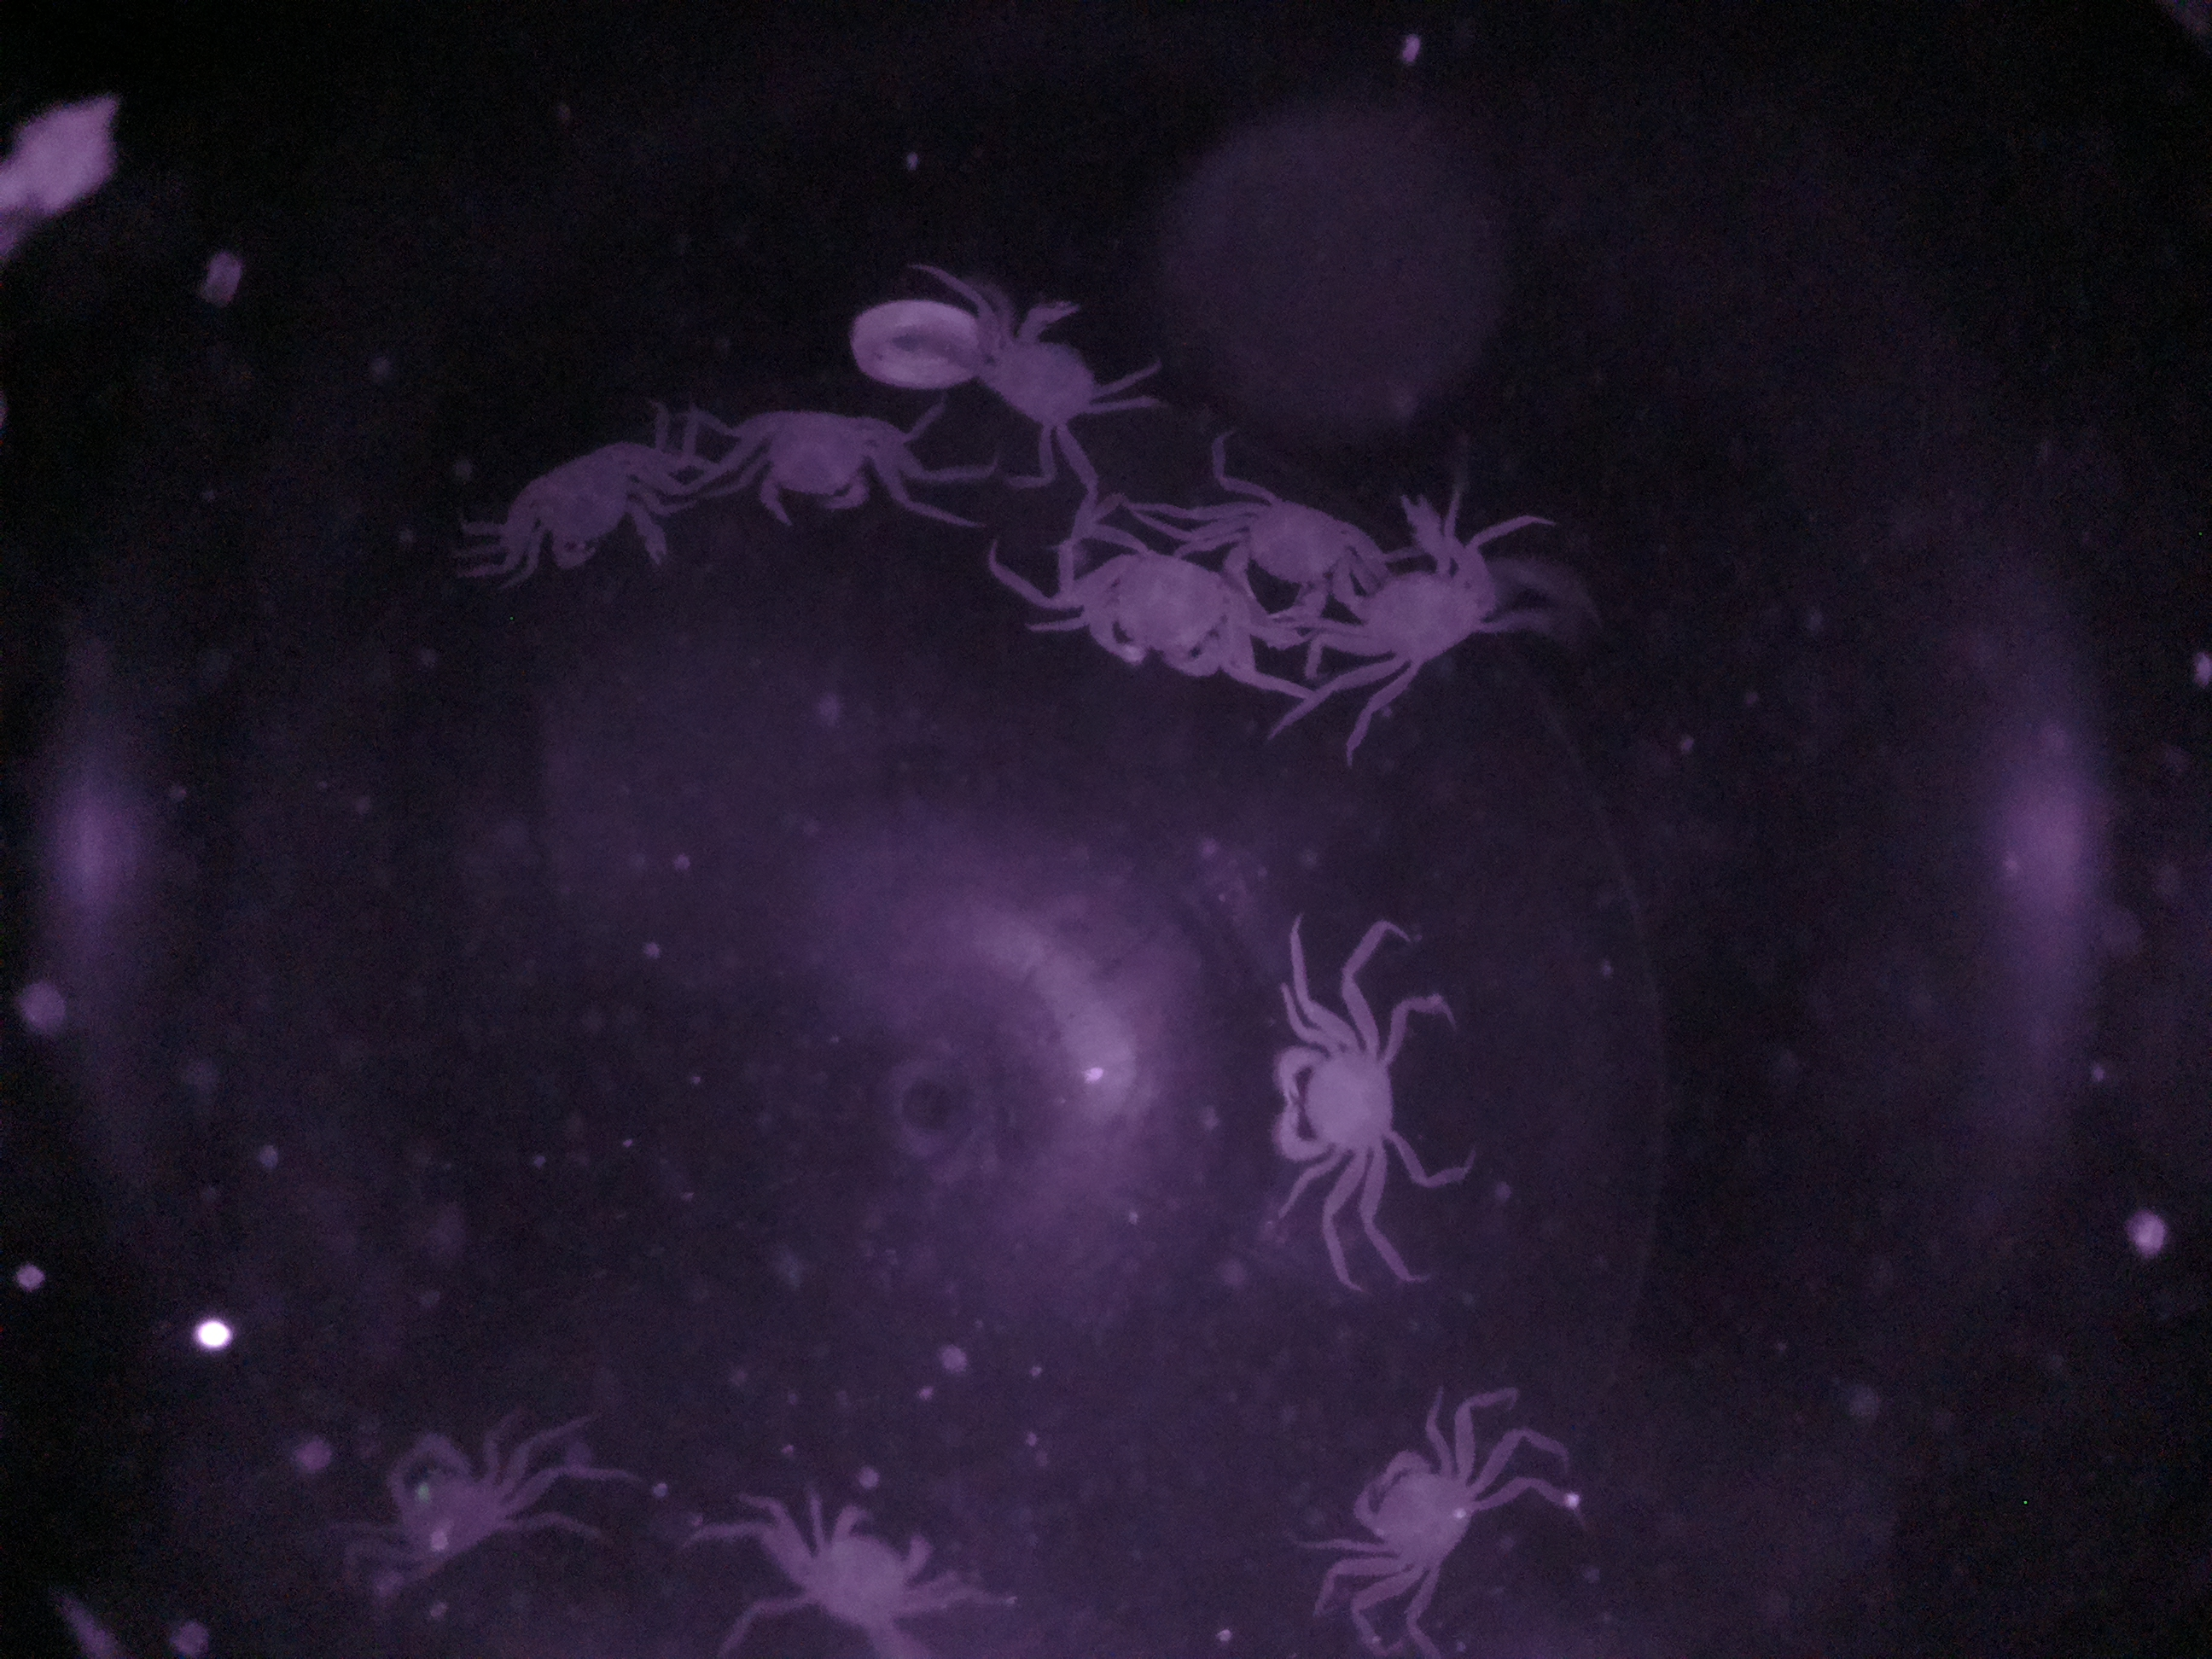Crab: (1324, 1427, 1519, 1622), (1251, 995, 1423, 1194), (716, 394, 928, 532), (786, 1483, 951, 1659)
